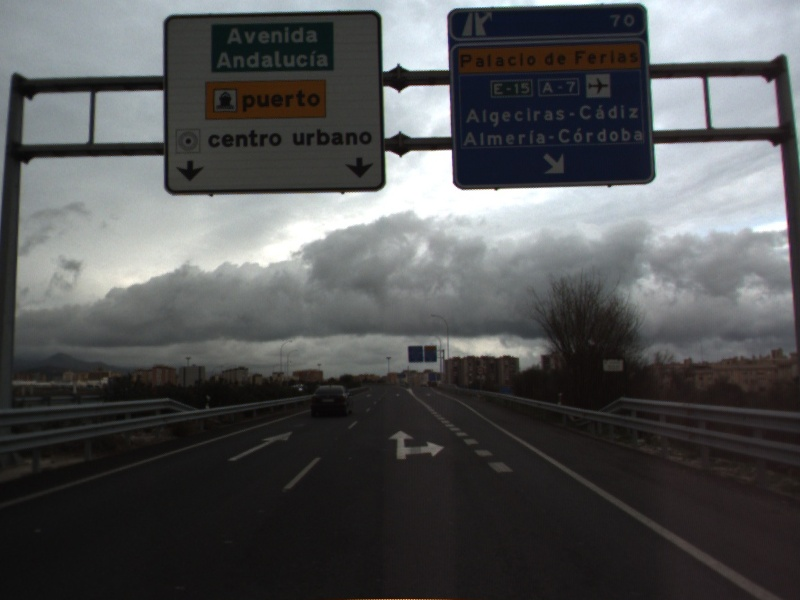STRAIGHT: (225, 430, 295, 463)
STRAIGHT_RIGHT: (386, 428, 447, 461)
